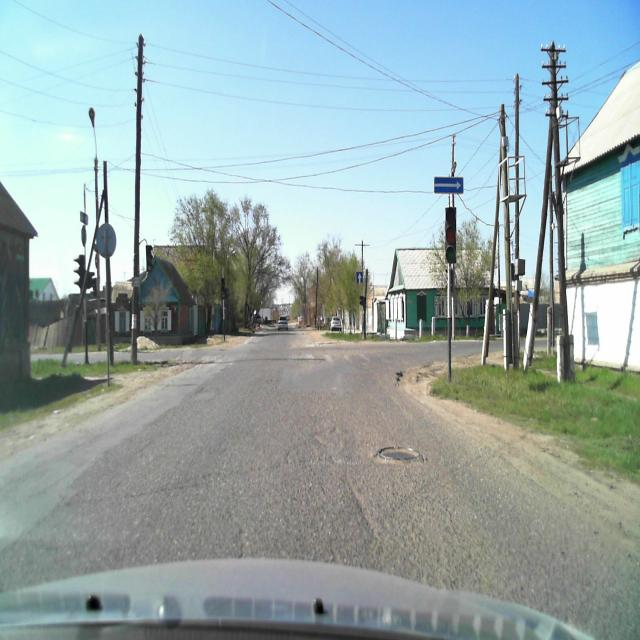road sign: (433, 175, 464, 194), (356, 271, 362, 283)
